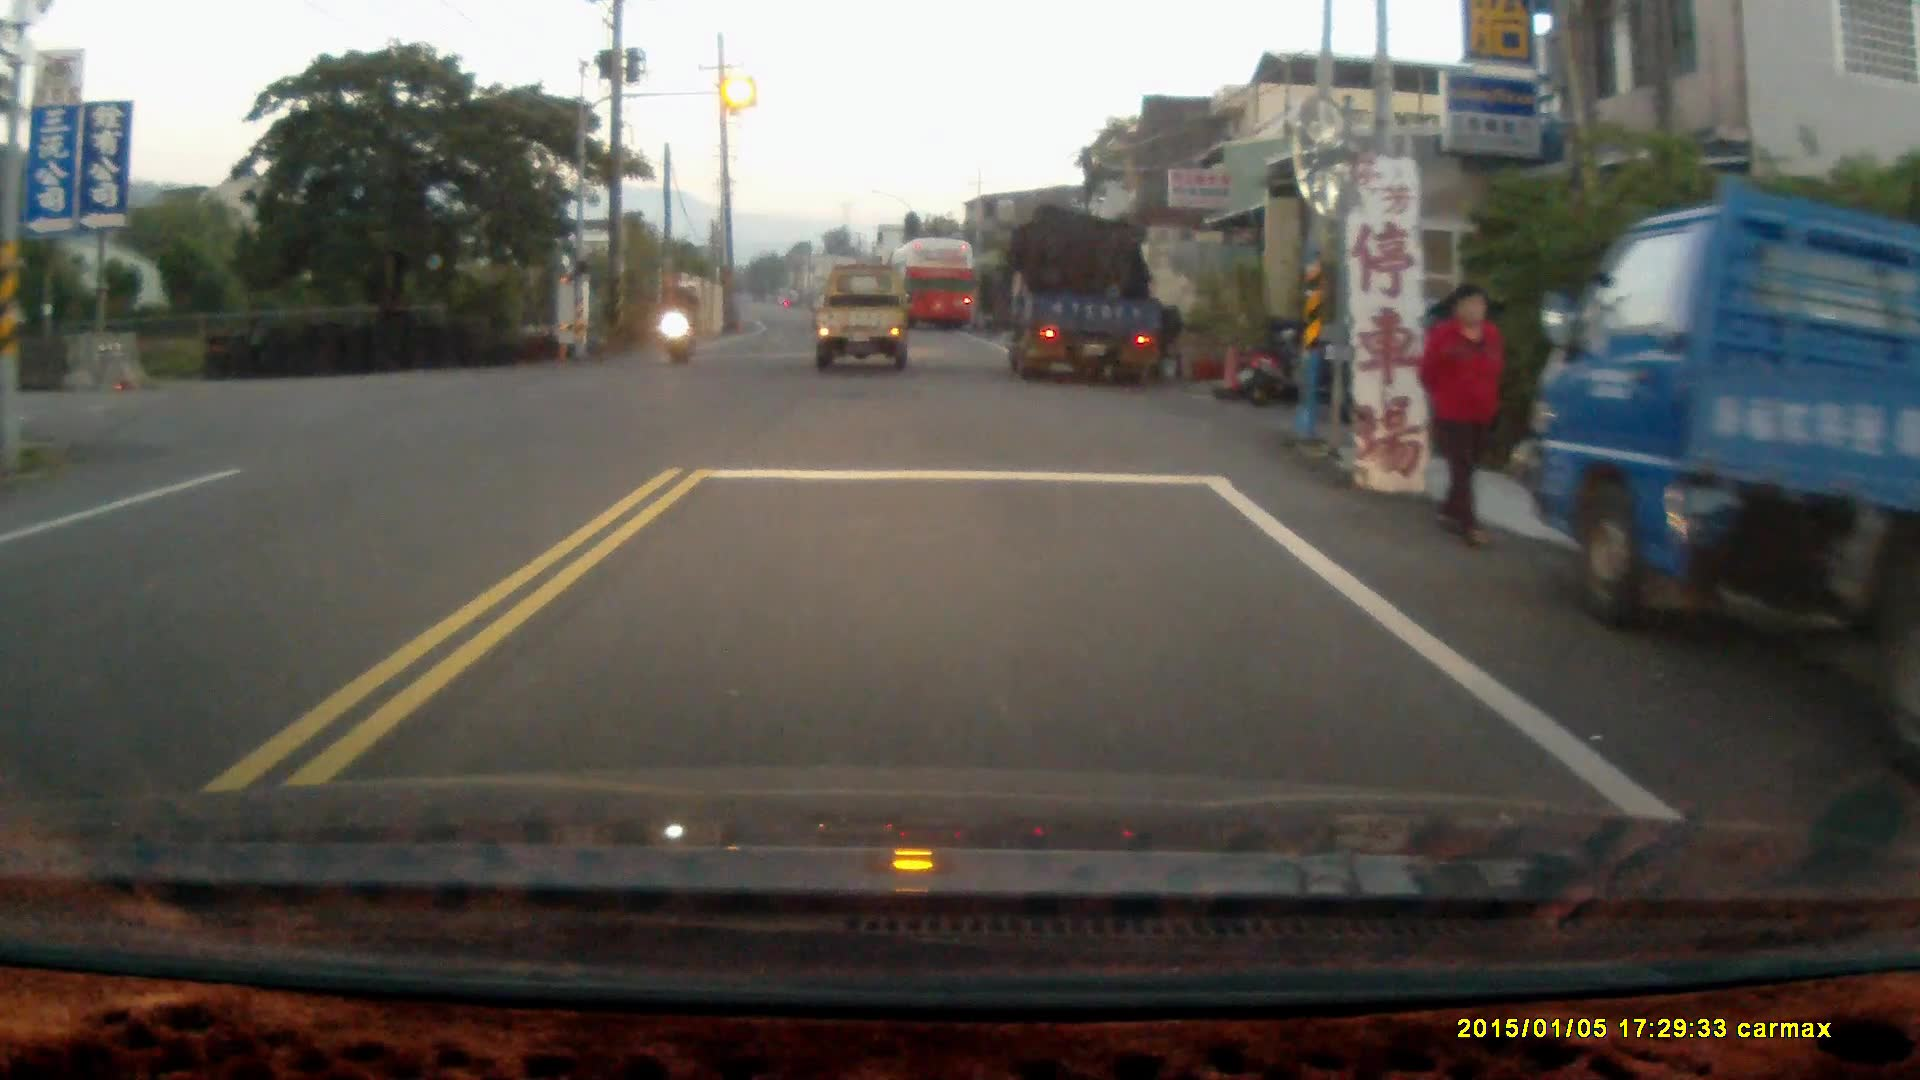pedestrian: (1417, 280, 1506, 550)
rider: (661, 280, 700, 365)
vehicle: (1525, 183, 1920, 731), (996, 204, 1171, 387), (809, 264, 906, 373), (885, 237, 974, 329)
